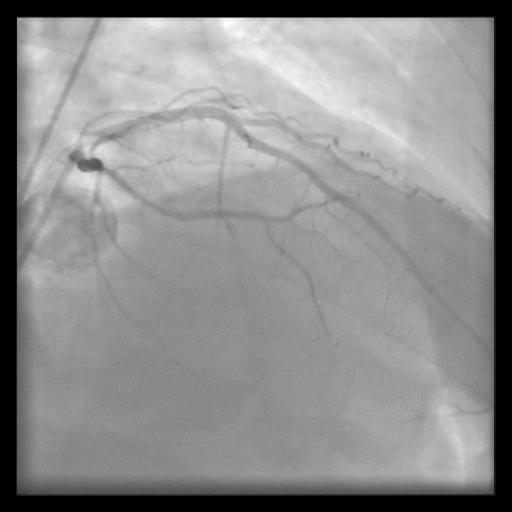Stenosis: (93, 162, 117, 186)
